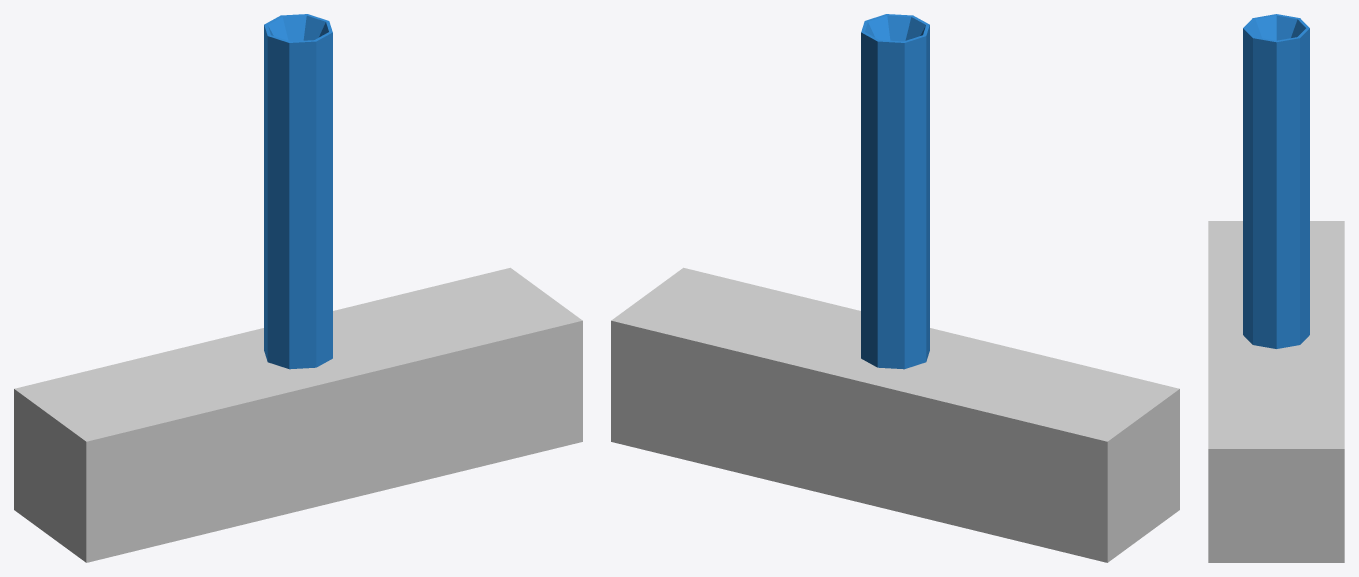
The model's file is uracileR.glb.
3 views of the same model, side by side, from view 1: azimuth 30°, elevation 25°; view 2: azimuth 150°, elevation 25°; view 3: azimuth 270°, elevation 25° (orthographic). The views are drawn at different scales.
Parts seen in each view (by area): view 1: backbone, uracile; view 2: backbone, uracile; view 3: backbone, uracile.
Boxes of the visible parts, x1,y1,x2,y2 form: backbone: [14, 267, 582, 562]; uracile: [264, 14, 332, 369]; backbone: [611, 267, 1179, 562]; uracile: [861, 14, 929, 369]; backbone: [1208, 221, 1344, 562]; uracile: [1243, 14, 1309, 348].
Bounding box in the file's own units: 1.34 × 1.16 × 0.339.
